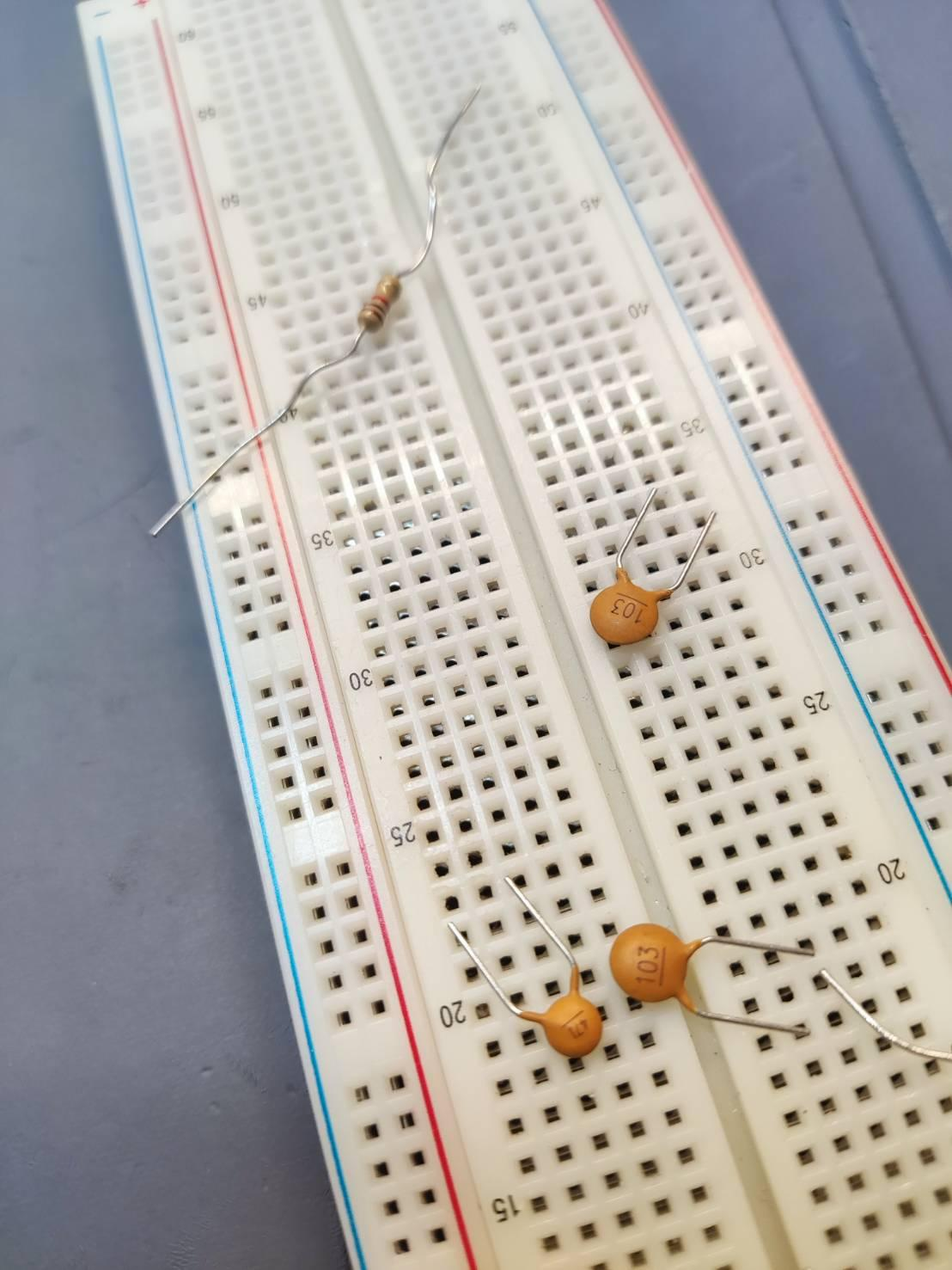resistor: (354, 272, 416, 327)
